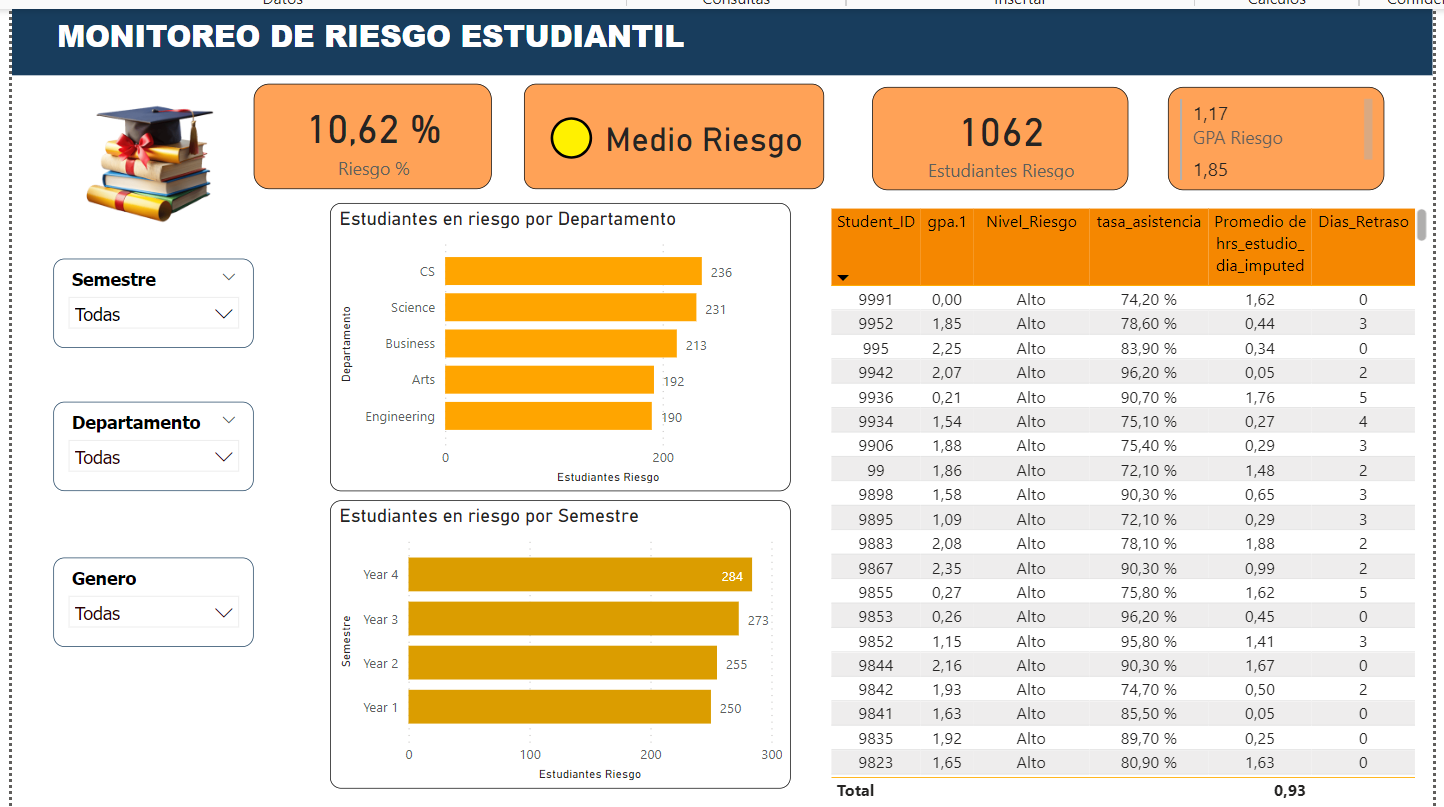

The dashboard page shown, as its layout file describes it:
{"tool":"powerbi","page":{"name":"Monitoreo","canvas":[1280,720],"ordinal":2},"visuals":[{"type":"slicer","fields":{"Values":["student_dropout_dataset_v3.Semestre"]},"box":[37.6,225.5,180.7,80.5],"z":0},{"type":"slicer","fields":{"Values":["student_dropout_dataset_v3.Genero"]},"box":[37.6,493.9,180.7,80.5],"z":1000},{"type":"textbox","box":[0,0,1280,60],"z":2000},{"type":"image","box":[38.7,60.2,179.1,150.4],"z":3000},{"type":"card","fields":{"Values":["Medidas.Estudiantes Riesgo"]},"box":[774.8,69.8,230.8,93.1],"z":4000},{"type":"card","fields":{"Values":["Medidas.Riesgo %"]},"box":[218.3,68,214.7,94.8],"z":5000},{"type":"multiRowCard","fields":{"Values":["Medidas.GPA Riesgo","Medidas.GPA Promedio"]},"box":[1041.5,69.8,195.1,93.1],"z":6000},{"type":"tableEx","fields":{"Values":["student_dropout_dataset_v3.Student_ID","student_dropout_dataset_v3.gpa.1","student_dropout_dataset_v3.Nivel_Riesgo","student_dropout_dataset_v3.tasa_asistencia","Avg(student_dropout_dataset_v3.hrs_estudio_dia_imputed)","student_dropout_dataset_v3.Dias_Retraso"]},"box":[731.9,175.4,547.6,544],"z":7000},{"type":"barChart","title":"Estudiantes en riesgo por Departamento","fields":{"Category":["student_dropout_dataset_v3.Departamento"],"Y":["Medidas.Estudiantes Riesgo"]},"box":[286,175.2,414.9,259.5],"z":8000},{"type":"barChart","title":"Estudiantes en riesgo por Semestre","fields":{"Y":["Medidas.Estudiantes Riesgo"],"Category":["student_dropout_dataset_v3.Semestre"]},"box":[286,443,414.9,259.5],"z":9000},{"type":"card","fields":{"Values":["Medidas.Color_Riesgo"]},"box":[461.7,68,270.2,94.8],"z":10000},{"type":"slicer","fields":{"Values":["student_dropout_dataset_v3.Departamento"]},"box":[37.6,354.3,180.7,80.5],"z":11000}]}

Visuals, with their boxes in screenshot pixels (x1, y1, x2, y2):
slicer - student_dropout_dataset_v3.Semestre: locate(53, 253, 253, 343)
slicer - student_dropout_dataset_v3.Genero: locate(53, 551, 253, 640)
textbox: locate(11, 4, 1429, 70)
image: locate(54, 70, 252, 237)
card - Medidas.Estudiantes Riesgo: locate(869, 81, 1125, 184)
card - Medidas.Riesgo %: locate(253, 79, 491, 184)
multiRowCard - Medidas.GPA Riesgo x Medidas.GPA Promedio: locate(1165, 81, 1381, 184)
tableEx - student_dropout_dataset_v3.Student_ID x student_dropout_dataset_v3.gpa.1: locate(822, 198, 1428, 800)
"Estudiantes en riesgo por Departamento" barChart: locate(328, 198, 787, 485)
"Estudiantes en riesgo por Semestre" barChart: locate(328, 494, 787, 782)
card - Medidas.Color_Riesgo: locate(523, 79, 822, 184)
slicer - student_dropout_dataset_v3.Departamento: locate(53, 396, 253, 485)
